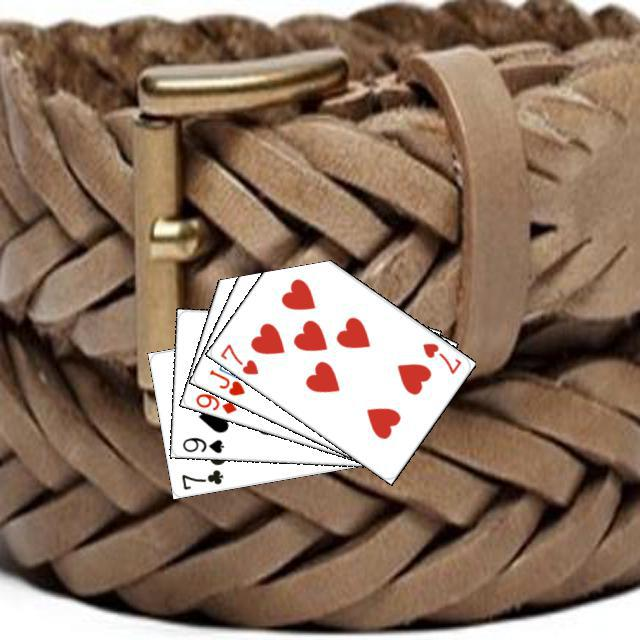7c: (176, 465, 225, 492)
7h: (215, 339, 260, 377), (418, 338, 463, 376)
9d: (191, 388, 239, 416)
9s: (178, 432, 225, 454)
Jh: (204, 364, 247, 397)
